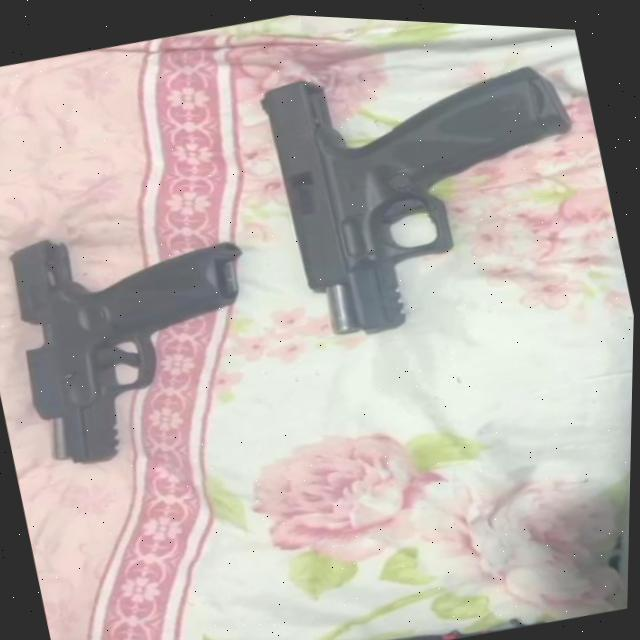gun: (254, 14, 610, 354), (0, 193, 289, 482)
